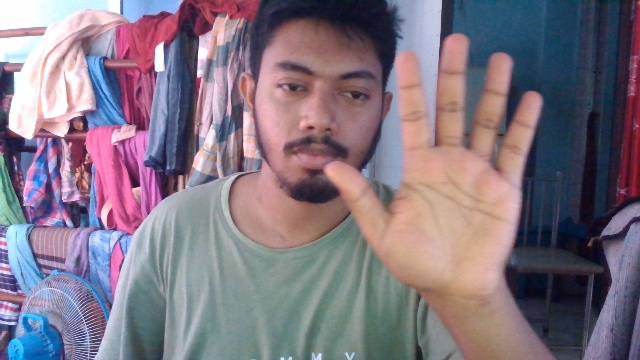hello: (326, 27, 543, 299)
